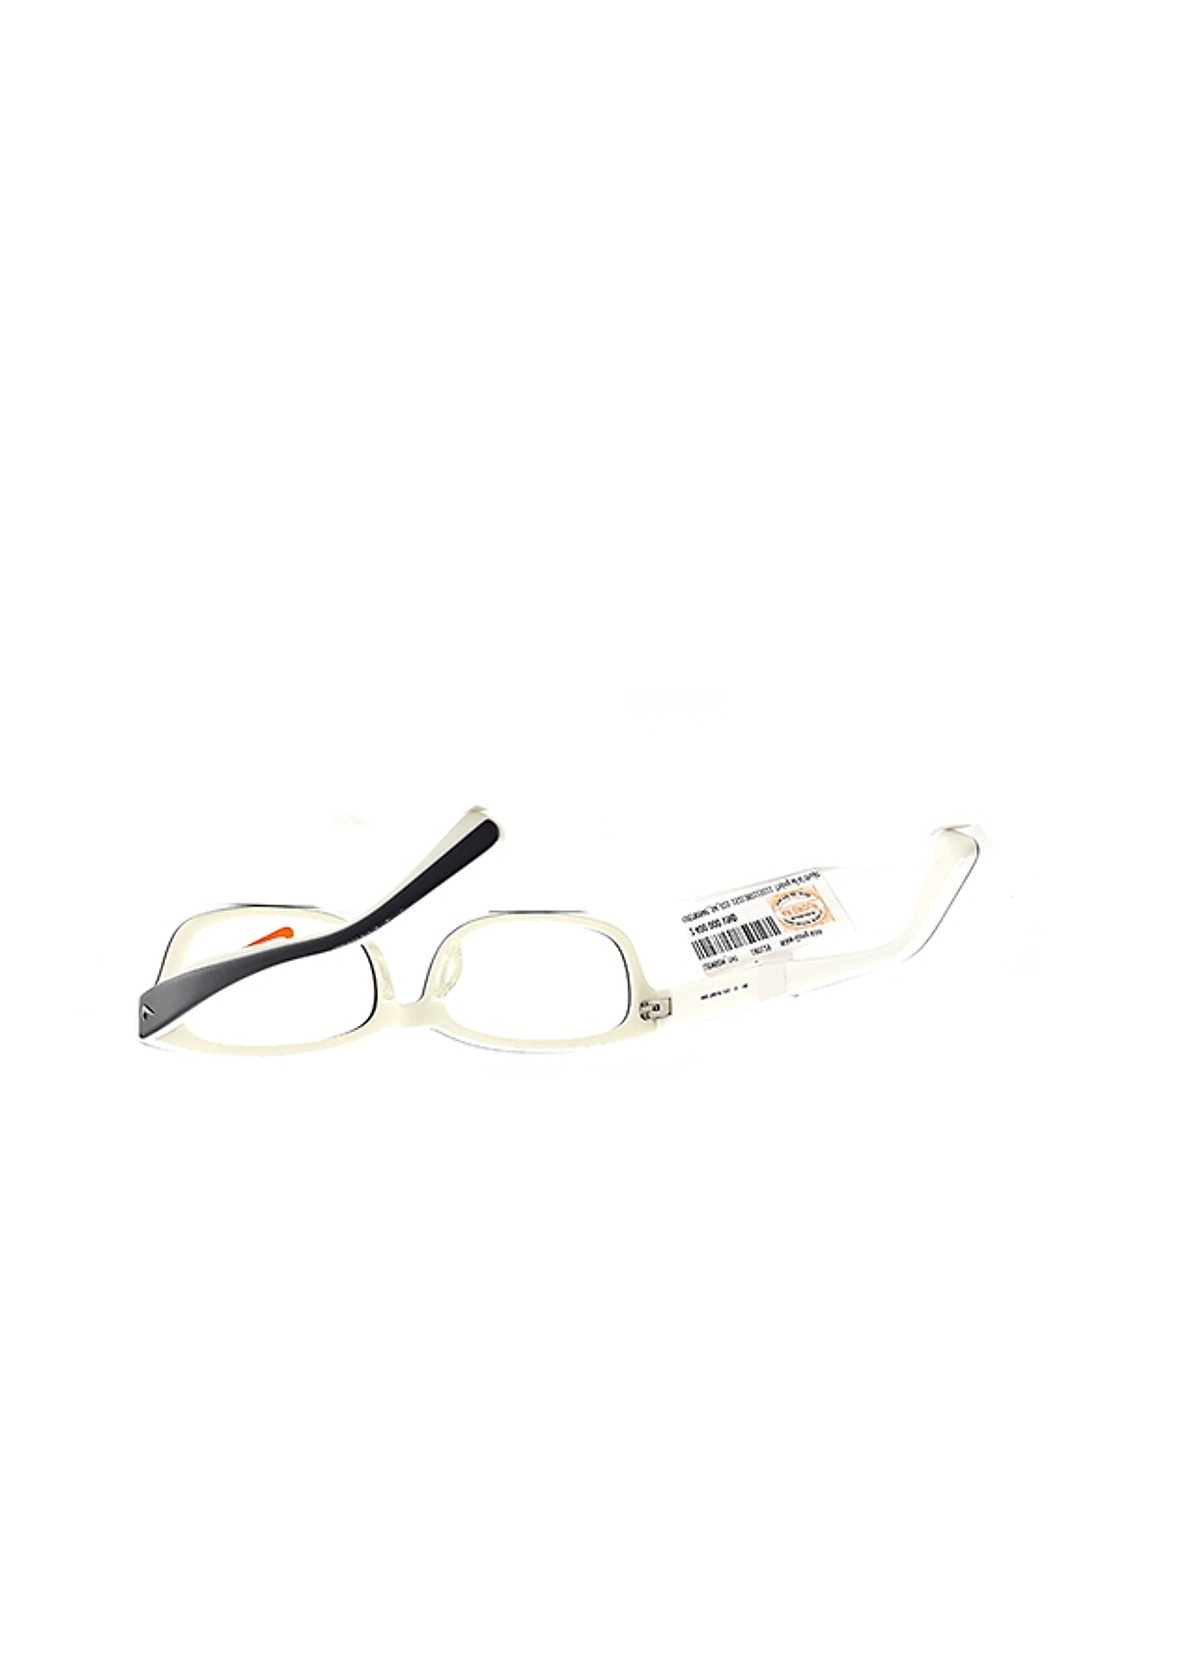Nike: (155, 869, 377, 997)
